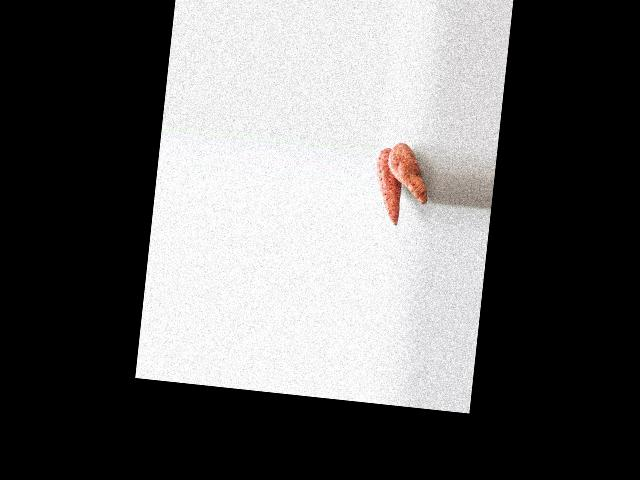sweet_potato: (372, 147, 405, 220)
